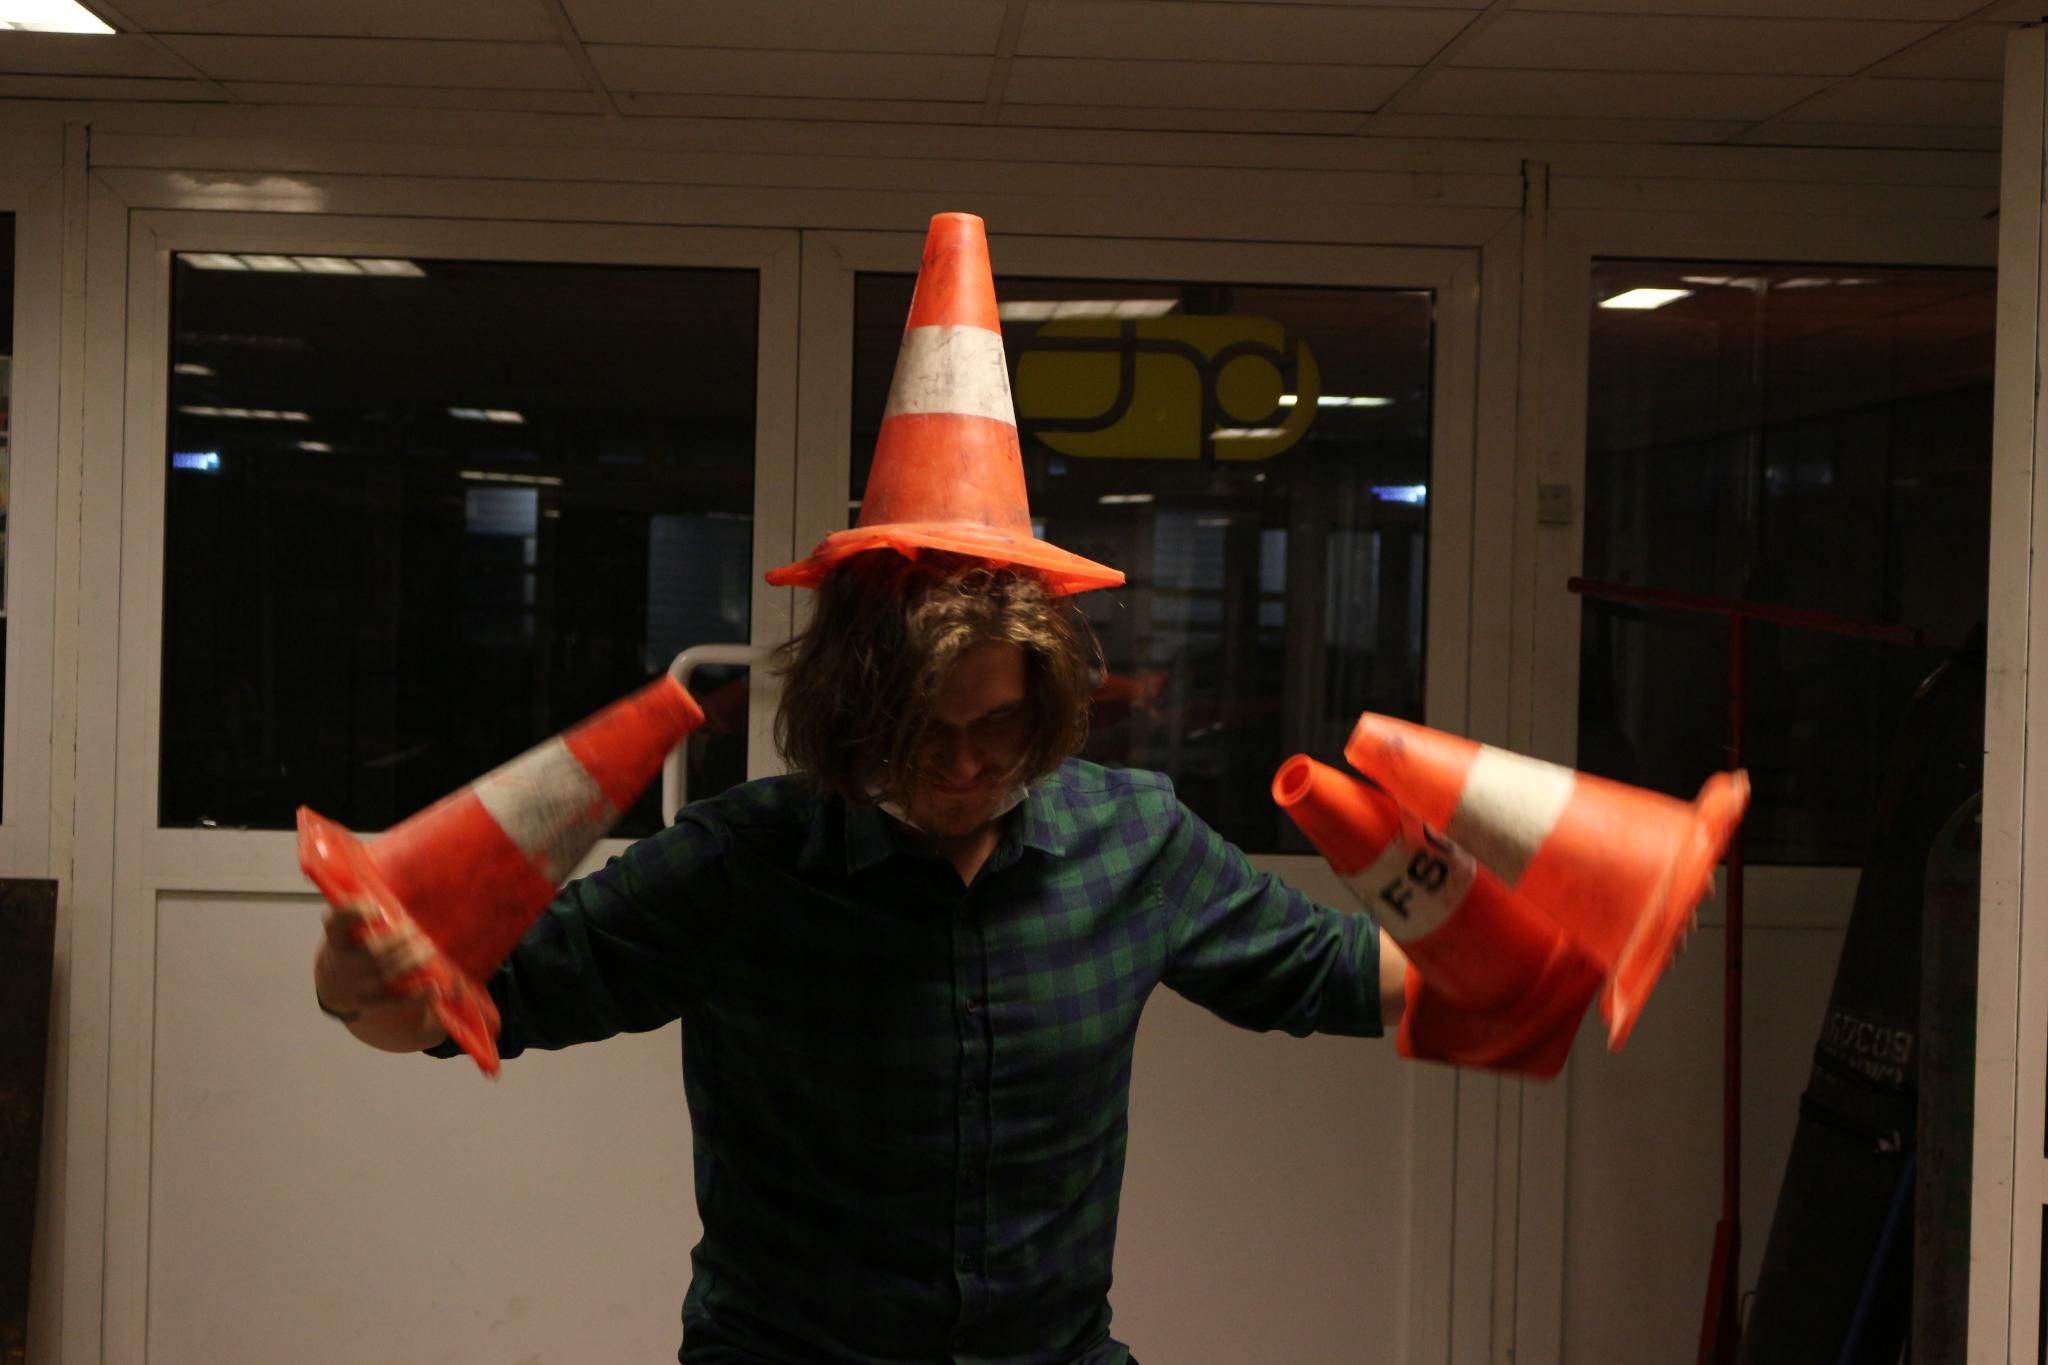Orange_Cone: (279, 670, 716, 1056), (772, 201, 1124, 605), (1335, 699, 1745, 1034), (1256, 745, 1602, 1080)
